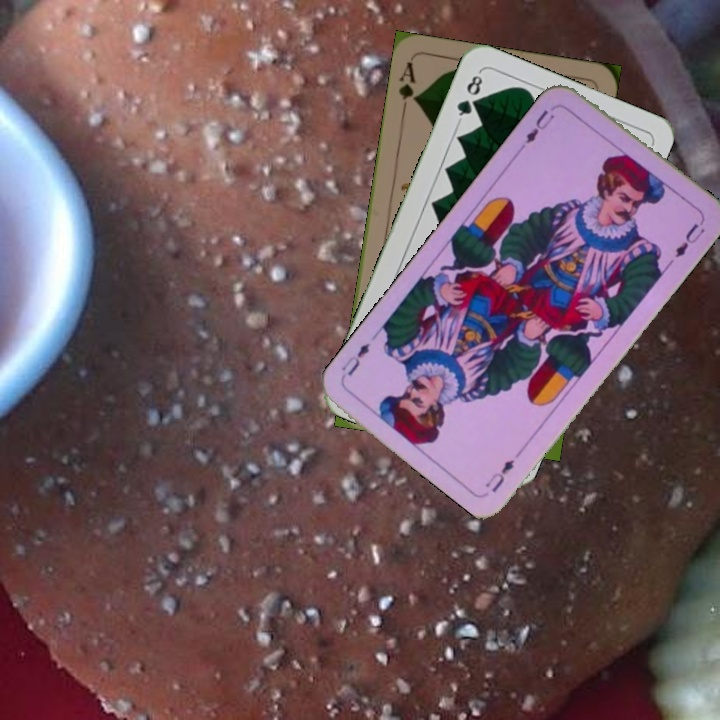EU: (516, 105, 557, 152), (481, 455, 517, 495)
G8: (452, 68, 485, 124)
GA: (394, 57, 420, 117)
